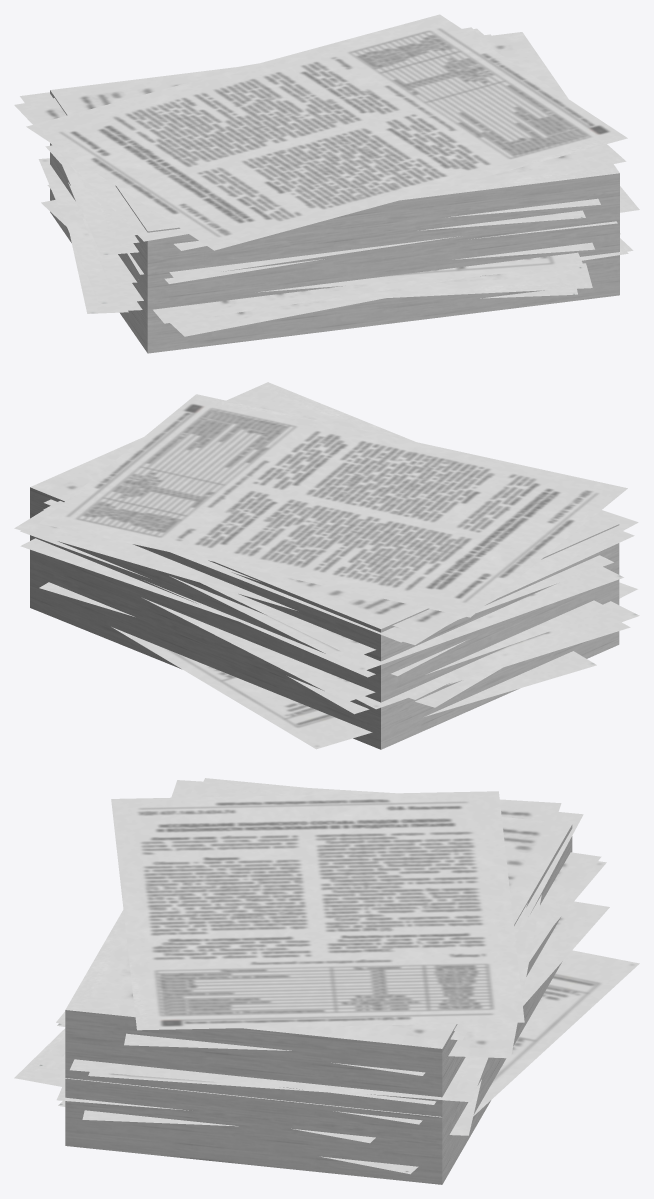
The model's file is SM_prop_Laboratory_Paper_Pile_03.fbx.
3 views of the same model, one above another, from view 1: azimuth 30°, elevation 25°; view 2: azimuth 150°, elevation 25°; view 3: azimuth 270°, elevation 25° (orthographic). The views are drawn at different scales.
Parts seen in each view (by area): view 1: SM_prop_Laboratory_Paper_Pile_03; view 2: SM_prop_Laboratory_Paper_Pile_03; view 3: SM_prop_Laboratory_Paper_Pile_03.
Boxes of the visible parts, x1=… form: SM_prop_Laboratory_Paper_Pile_03: x1=14, y1=14, x2=639, y2=353; SM_prop_Laboratory_Paper_Pile_03: x1=14, y1=382, x2=639, y2=749; SM_prop_Laboratory_Paper_Pile_03: x1=14, y1=778, x2=639, y2=1184.
Bounding box in the file's own units: 43.15 × 9.62 × 39.66.
Materials: 1 (1 with a texture image).
